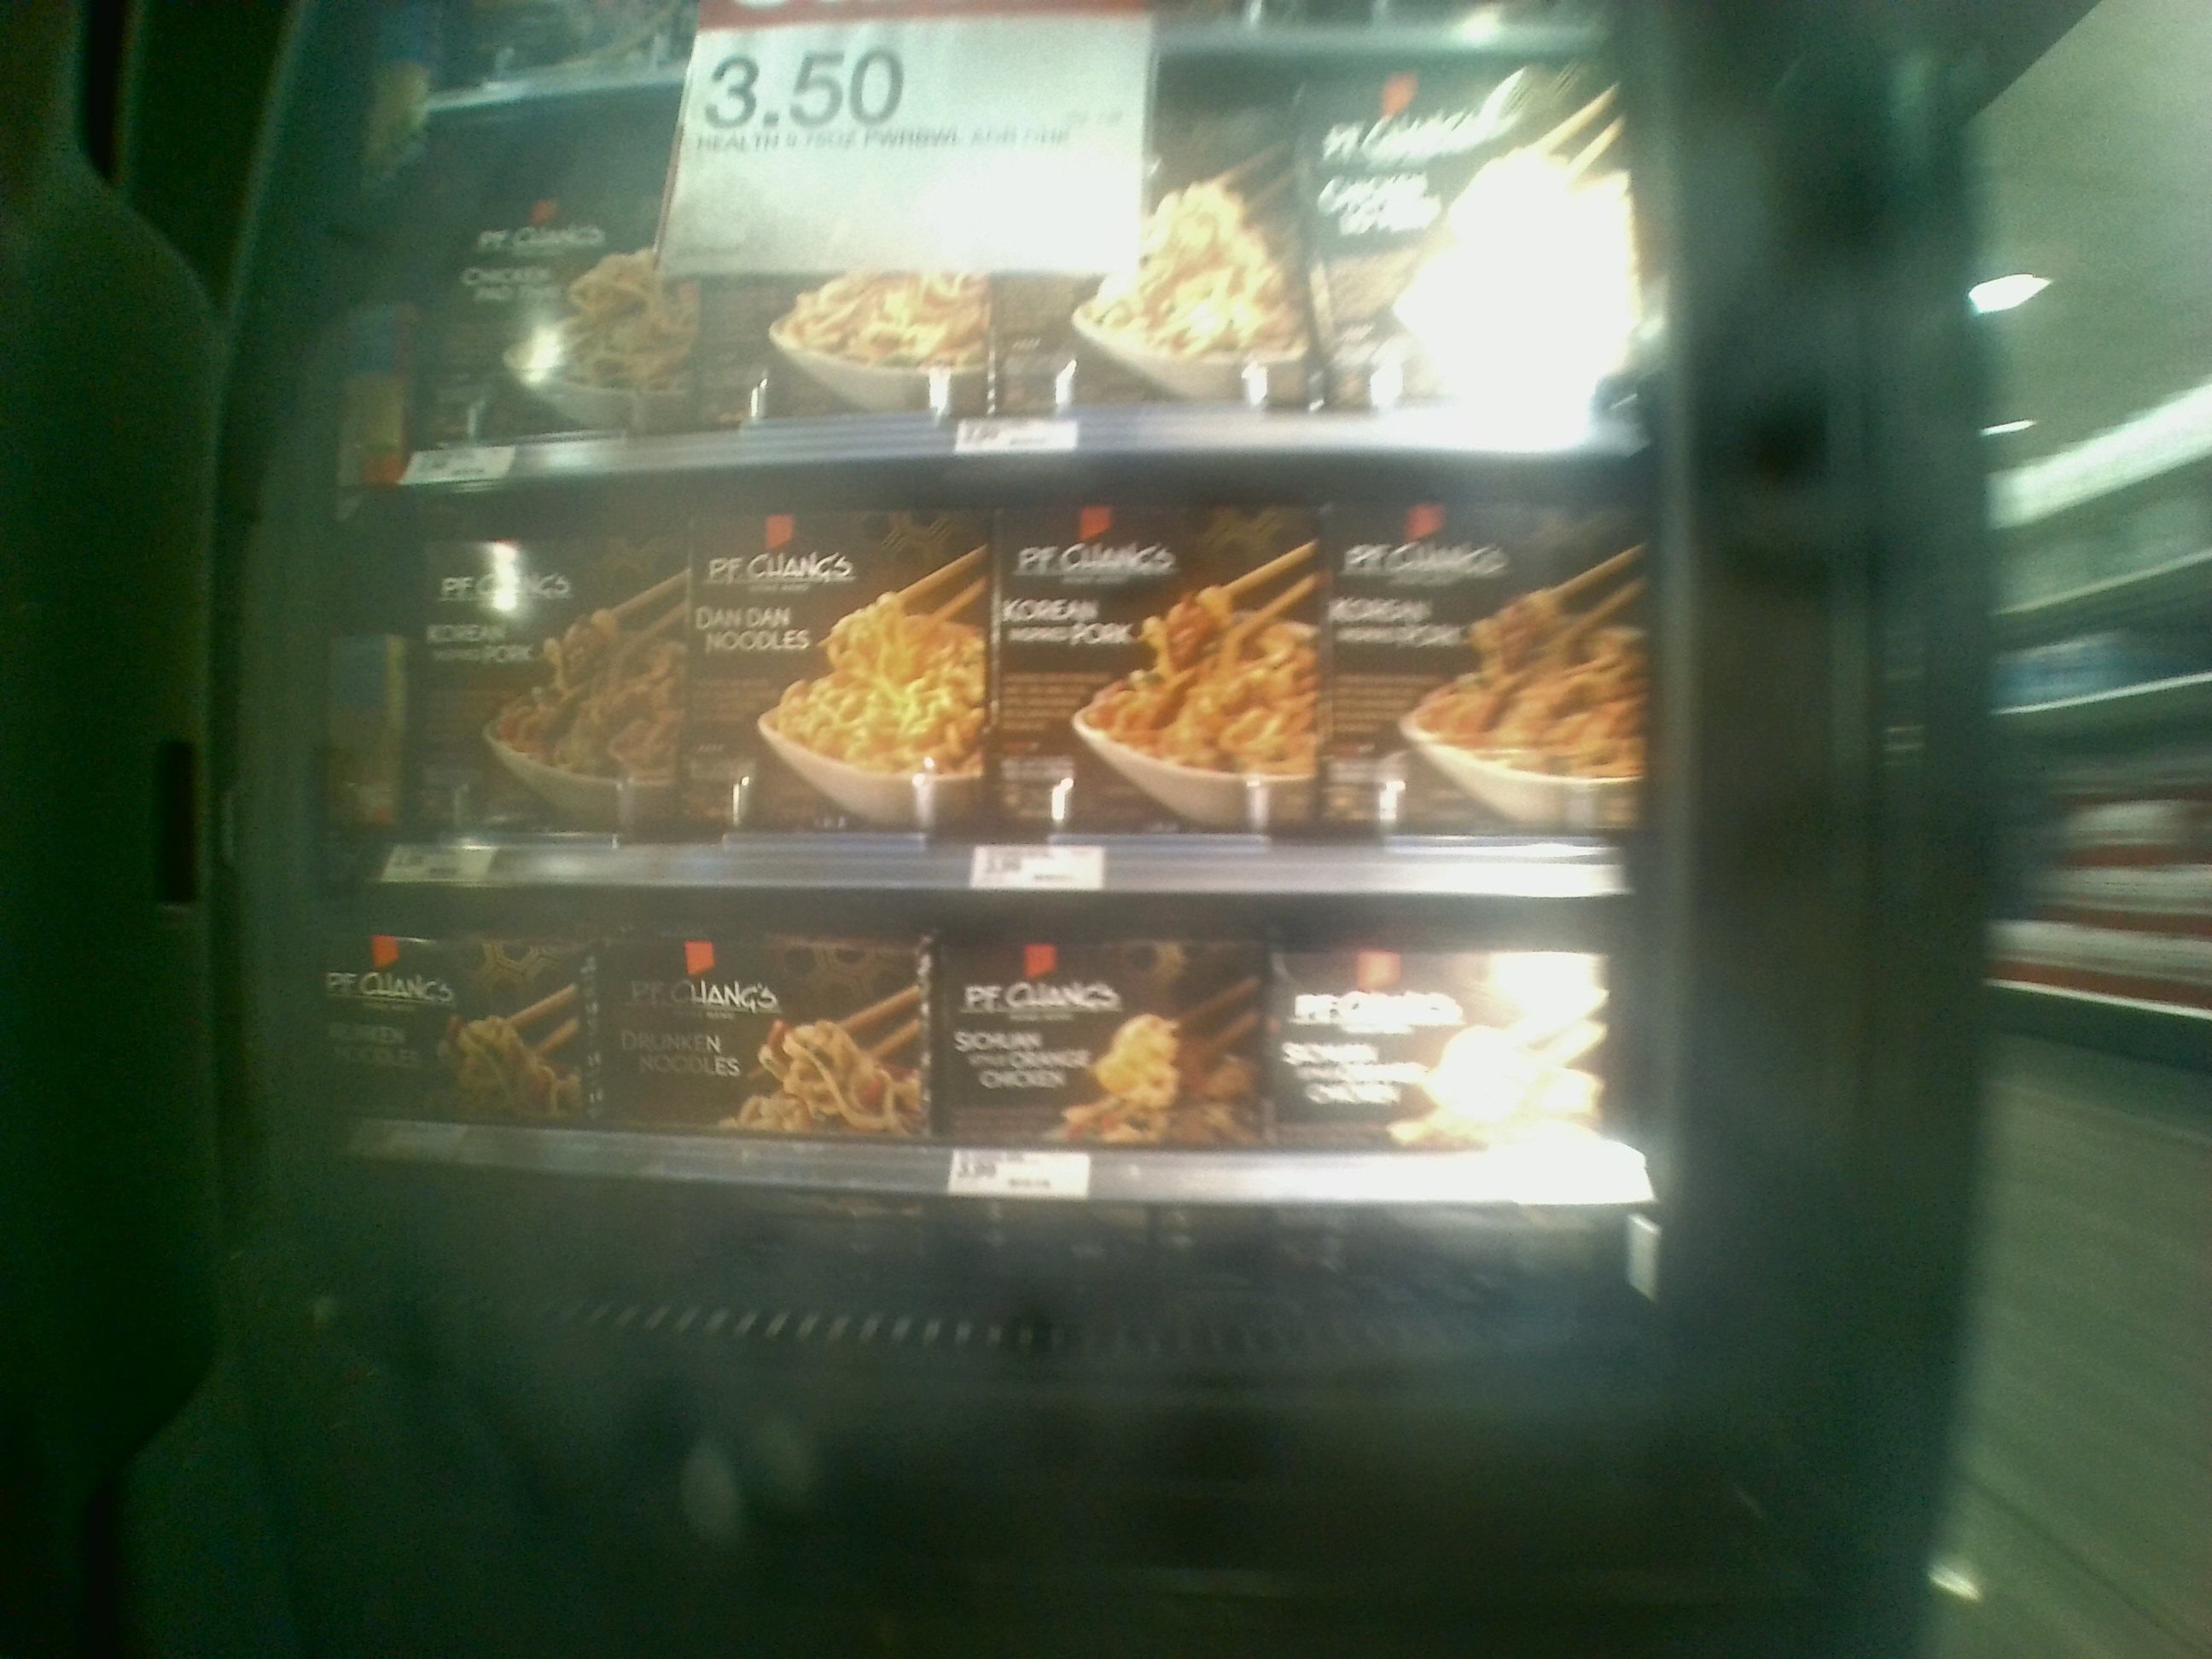shelf: (298, 871, 1653, 1364), (308, 460, 1637, 884)
